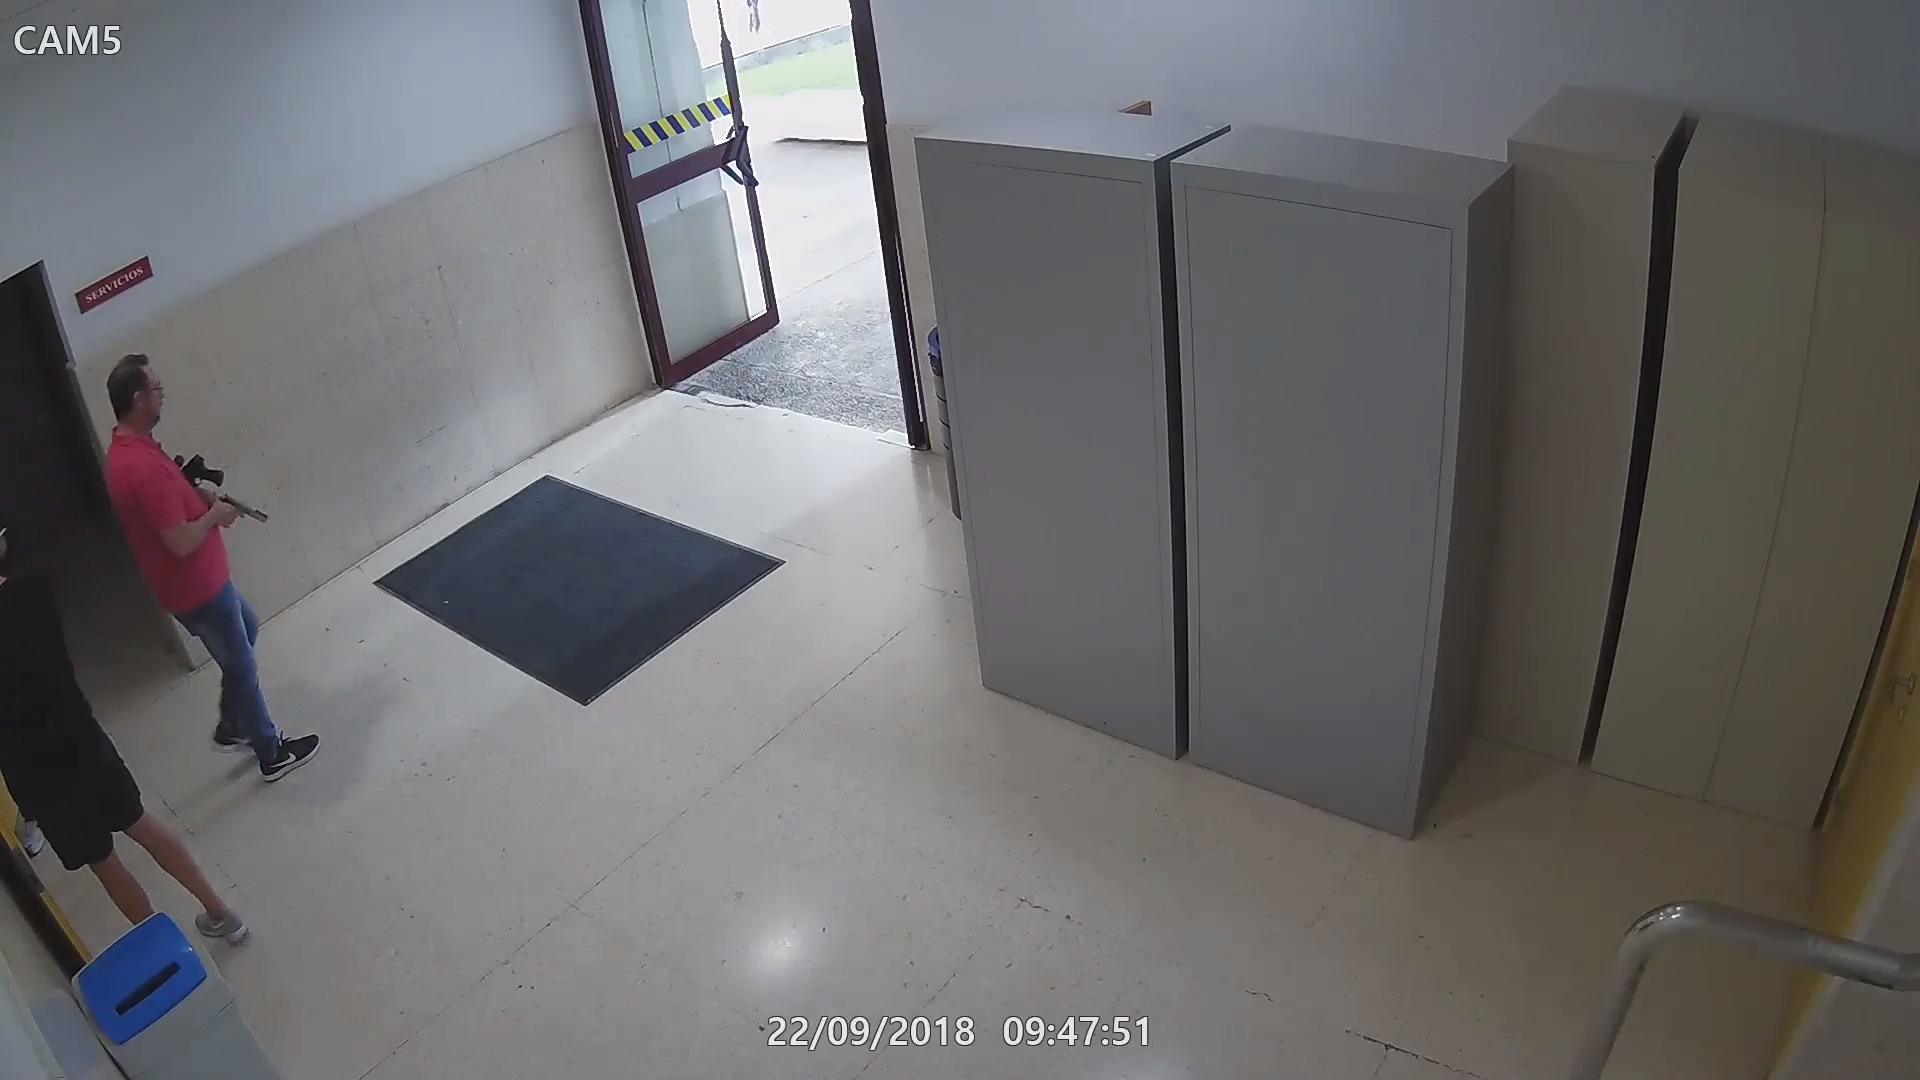pistol: (208, 493, 268, 531)
rifle: (169, 444, 233, 495)
